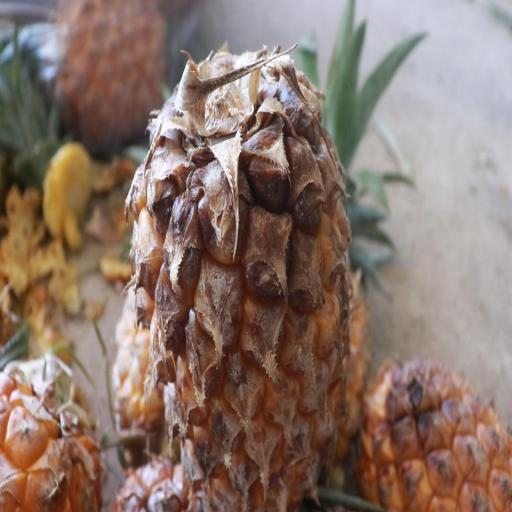Pineapple - v8 v1: (126, 34, 356, 512), (354, 359, 512, 512)
